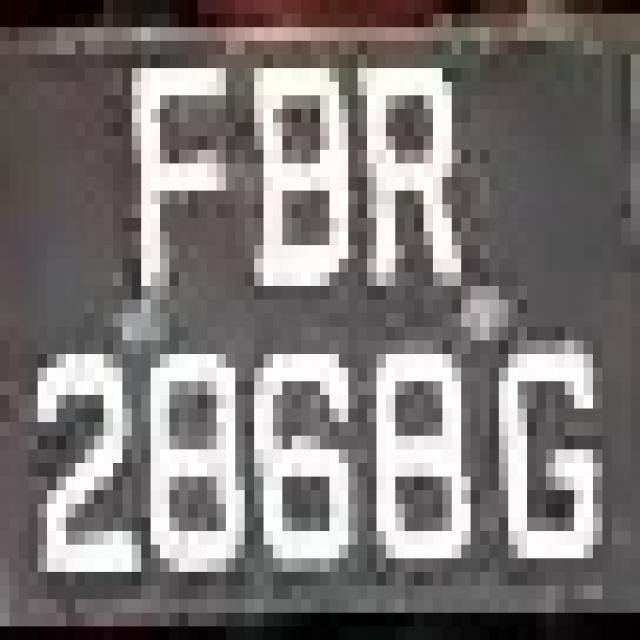2: (28, 272, 141, 613)
6: (245, 313, 376, 599)
8: (348, 272, 489, 586), (132, 272, 254, 613)
B: (216, 41, 348, 313)
F: (104, 0, 254, 327)
G: (499, 300, 612, 586)
R: (339, 55, 480, 313)
